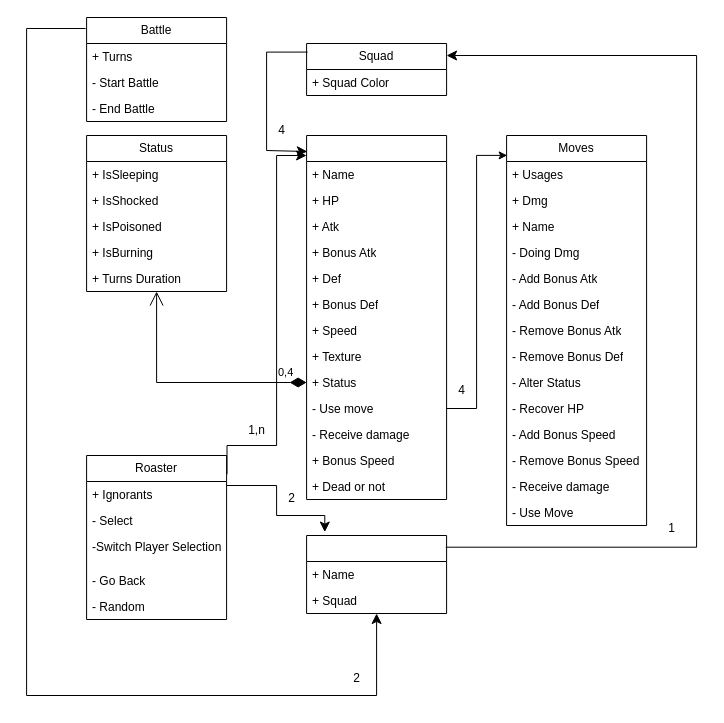
Image size: 724x723. Some labels were removed from this diagram. Each missing label, with the box of its shape:
Ignorant: (306, 134, 447, 500)
Player: (306, 534, 447, 614)
